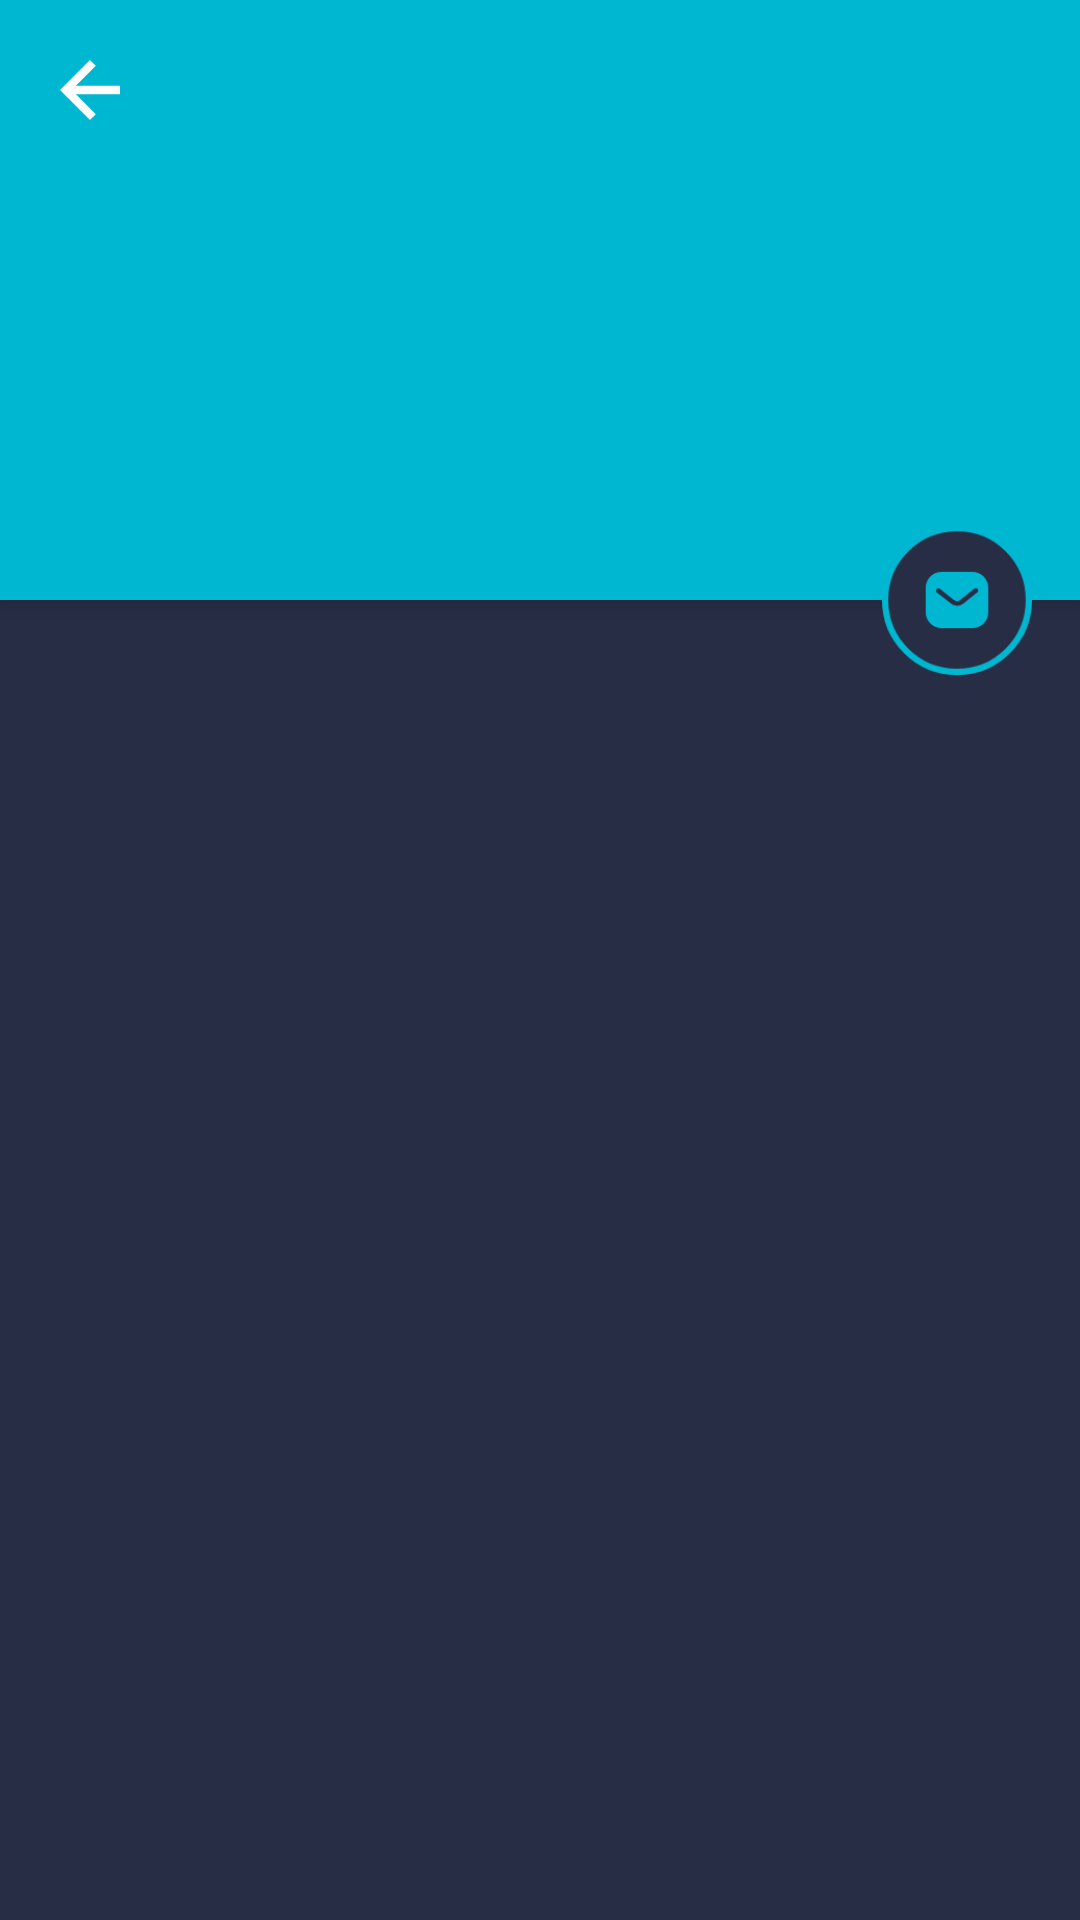

Point at icon controls on the screen. Image size 1080px x 1920px, points as [x,y].
back: [90,90]
message: [957,600]
